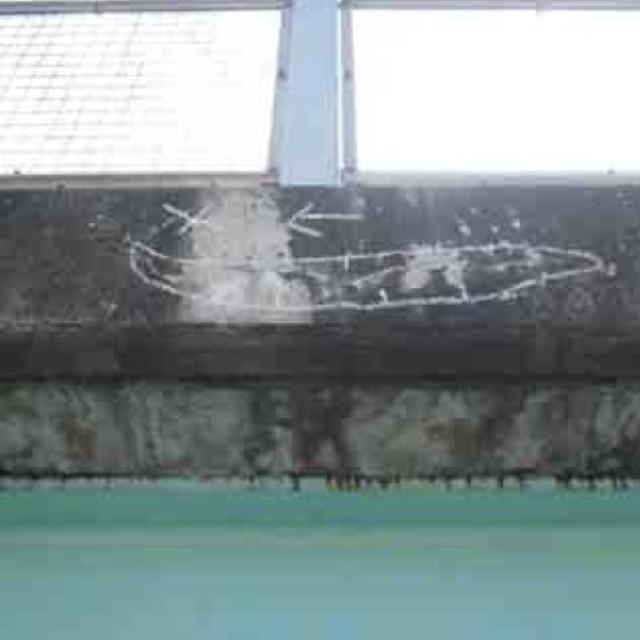freelime: (166, 183, 316, 320)
